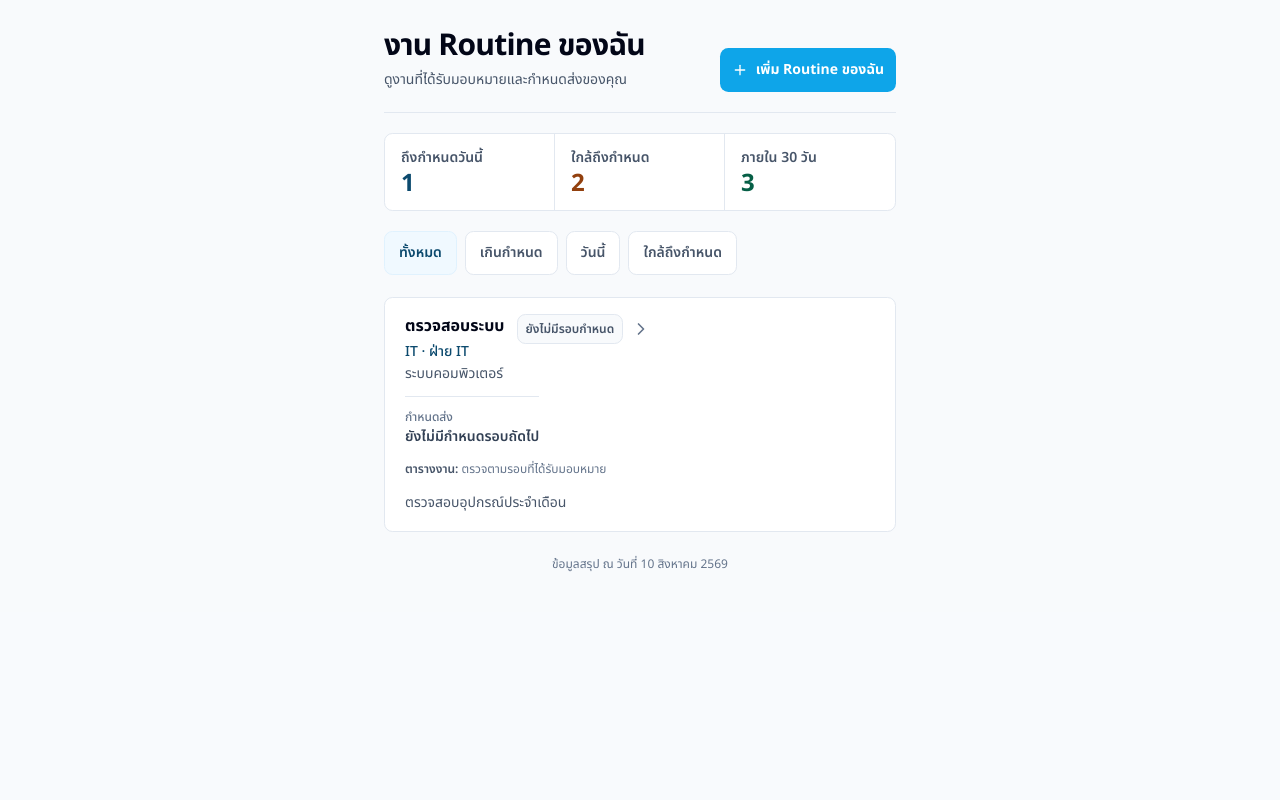
Test: LiffRoutineApp › selects the nearest current occurrence instead of an older overdue occurrence
expect the heading "ตรวจสอบระบบ" is shown: met, box [405,314,504,338]
Click the button with aria-label "เปิดรายละเอียดงาน ตรวจสอบระบบ".
click(455, 326)  # box [385,298,895,531]
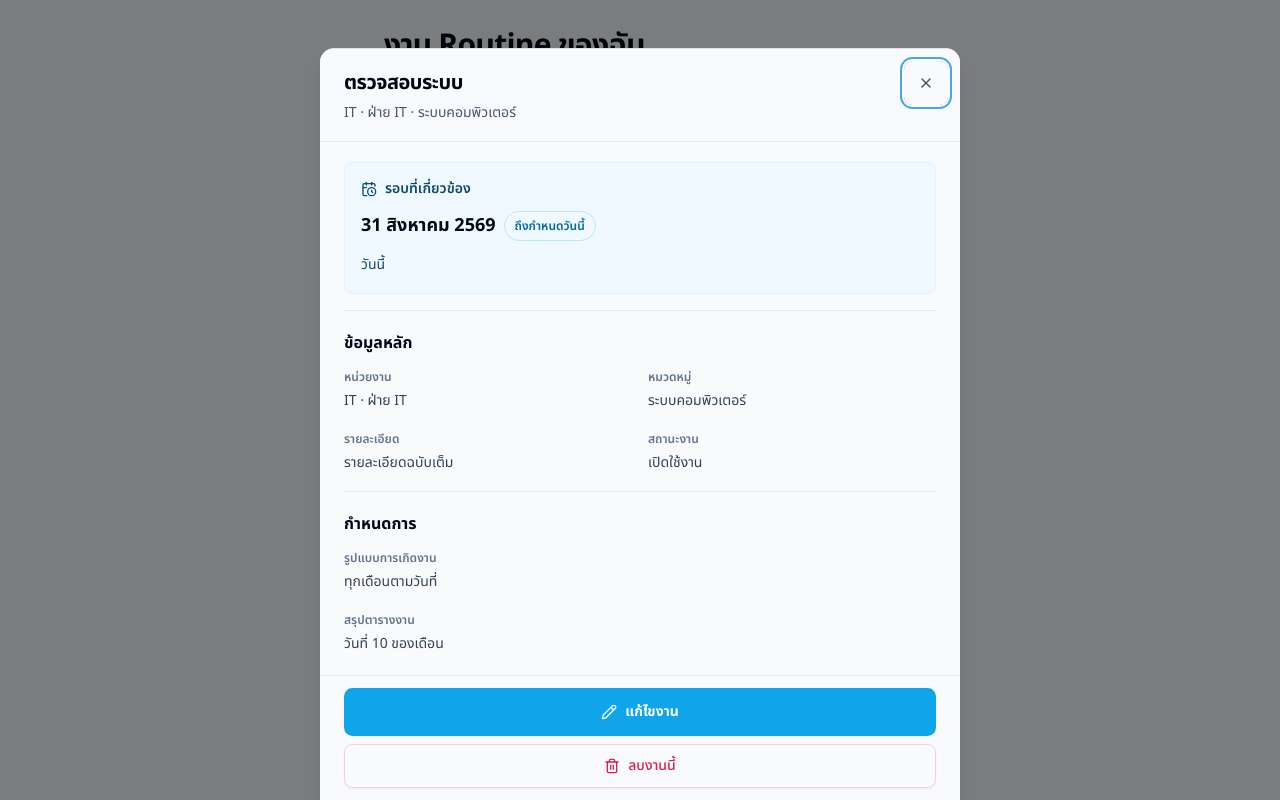
expect the text "31 สิงหาคม 2569" is shown: met, box [361,212,496,240]
expect the text "วันนี้" is shown: met, box [361,254,385,275]
